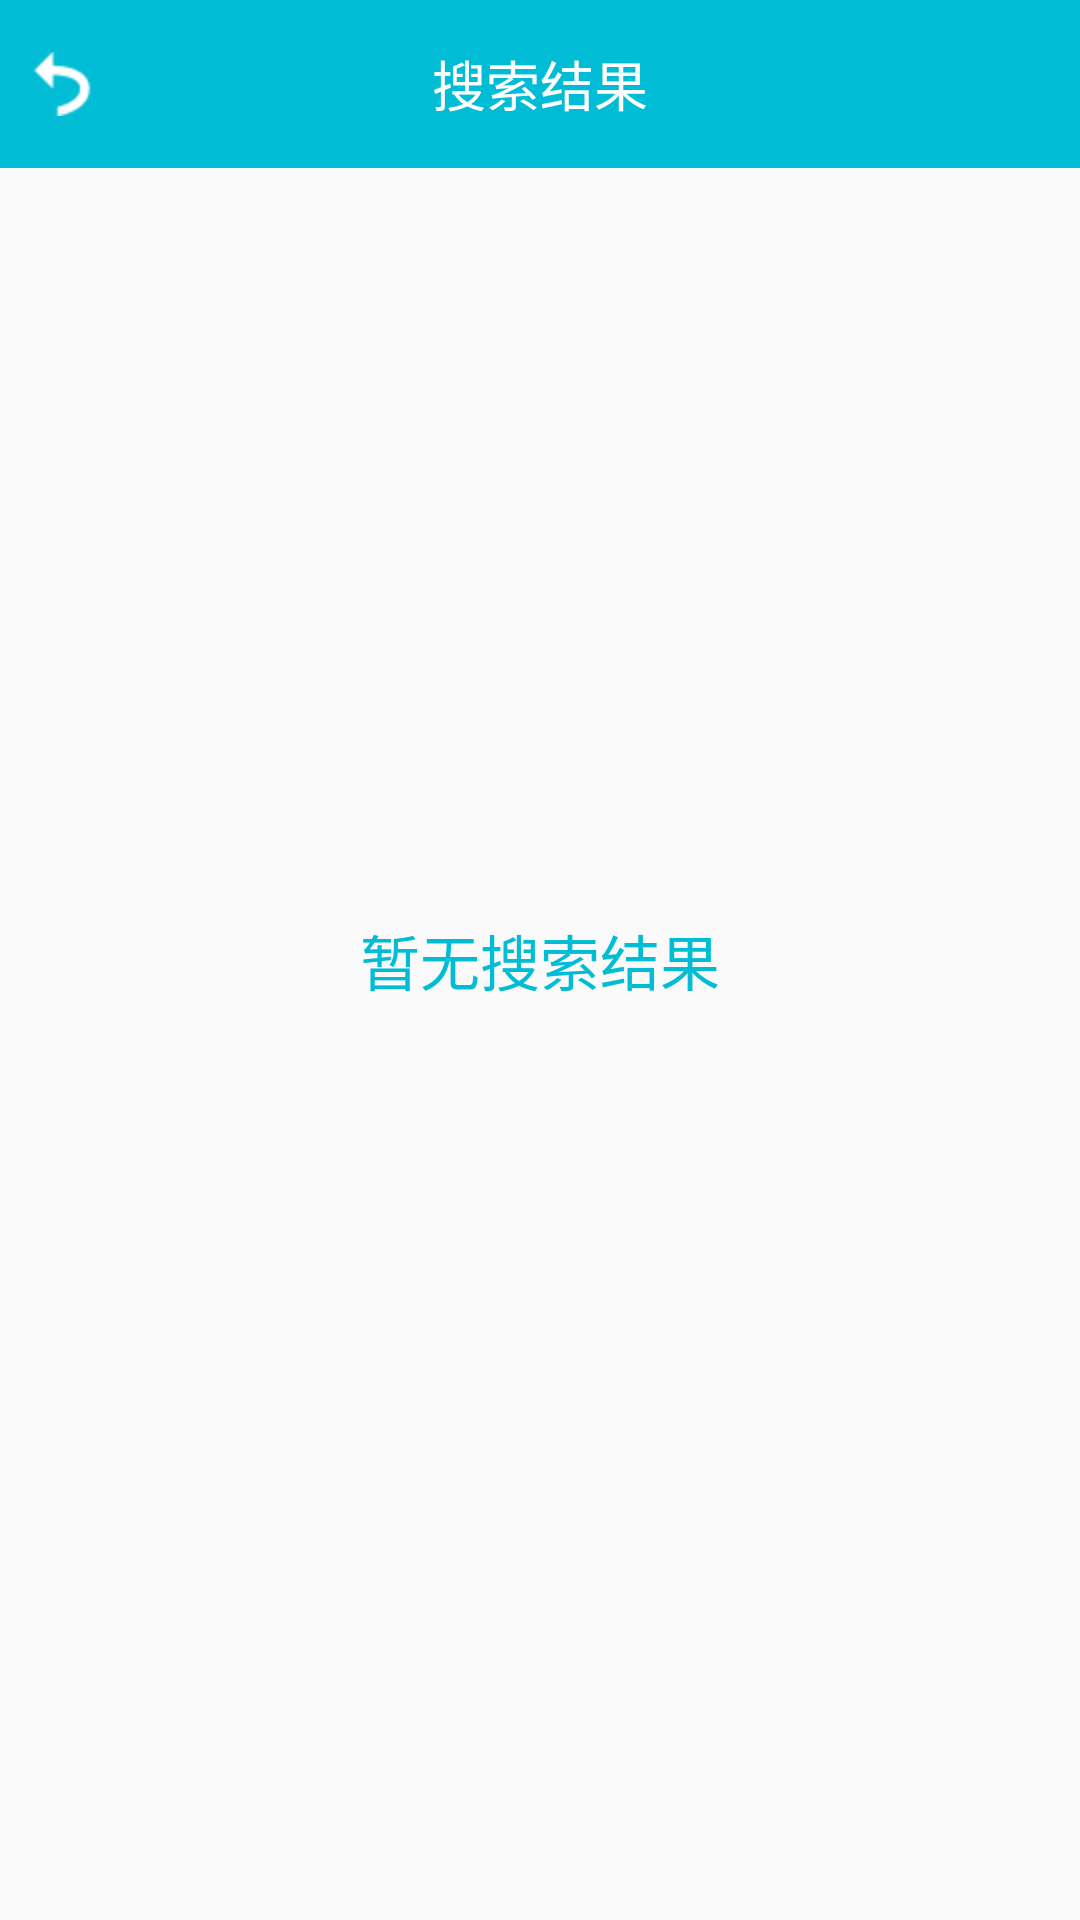

Where icons sit on this 1080 × 1920 app screen, as BBox(x1, y1, x2, y2):
back: BBox(34, 52, 91, 116)
